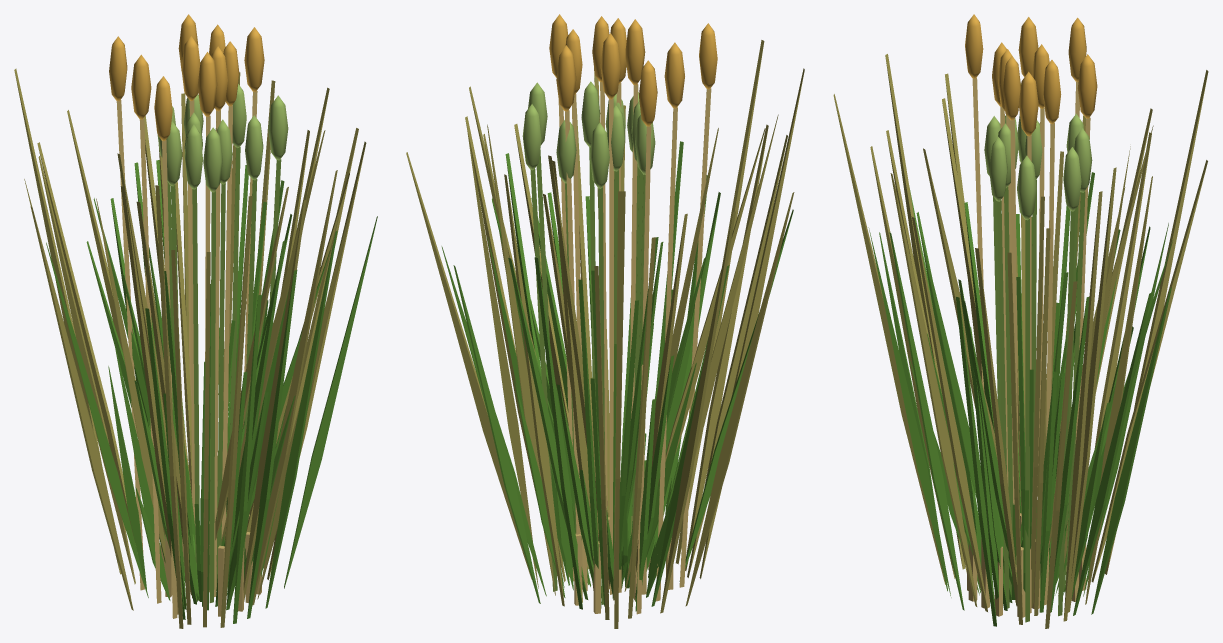
The model's file is Crop_Grain_Wheat.fbx.
The picture shows the model from 3 angles, left to right: view 1: azimuth 30°, elevation 25°; view 2: azimuth 150°, elevation 25°; view 3: azimuth 270°, elevation 25°; orthographic projection. The views are drawn at different scales.
Parts seen in each view (by area): view 1: Crop_Grain_Wheat__S4, Crop_Grain_Wheat__S3, Crop_Grain_Wheat__S2, Crop_Grain_Wheat__S5, Crop_Grain_Wheat__S1; view 2: Crop_Grain_Wheat__S4, Crop_Grain_Wheat__S3, Crop_Grain_Wheat__S2, Crop_Grain_Wheat__S5, Crop_Grain_Wheat__S1; view 3: Crop_Grain_Wheat__S4, Crop_Grain_Wheat__S3, Crop_Grain_Wheat__S2, Crop_Grain_Wheat__S5, Crop_Grain_Wheat__S1.
Part boxes in pixels (<box>): Crop_Grain_Wheat__S4: <box>14,14,366,628</box>; Crop_Grain_Wheat__S3: <box>46,84,377,623</box>; Crop_Grain_Wheat__S2: <box>108,300,295,610</box>; Crop_Grain_Wheat__S5: <box>135,427,261,616</box>; Crop_Grain_Wheat__S1: <box>181,504,236,606</box>; Crop_Grain_Wheat__S4: <box>406,14,804,628</box>; Crop_Grain_Wheat__S3: <box>441,81,793,609</box>; Crop_Grain_Wheat__S2: <box>514,289,708,611</box>; Crop_Grain_Wheat__S5: <box>556,433,673,613</box>; Crop_Grain_Wheat__S1: <box>579,460,660,597</box>; Crop_Grain_Wheat__S4: <box>833,14,1208,628</box>; Crop_Grain_Wheat__S3: <box>868,113,1172,626</box>; Crop_Grain_Wheat__S2: <box>908,302,1133,612</box>; Crop_Grain_Wheat__S5: <box>966,490,1086,617</box>; Crop_Grain_Wheat__S1: <box>970,491,1049,599</box>.
Bounding box in the file's own units: 0.2423 × 0.3621 × 0.2242.
